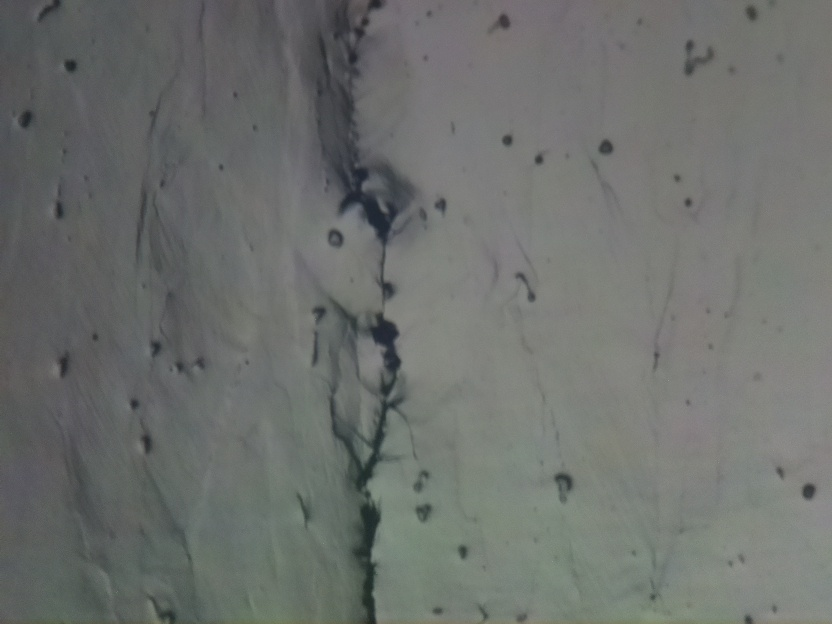crack: (333, 0, 403, 624)
